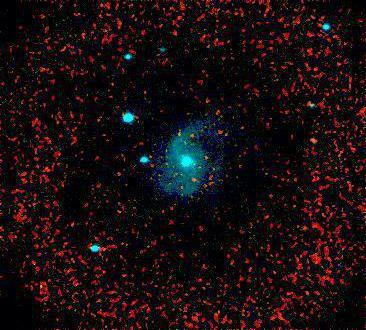star: (302, 128, 332, 158)
